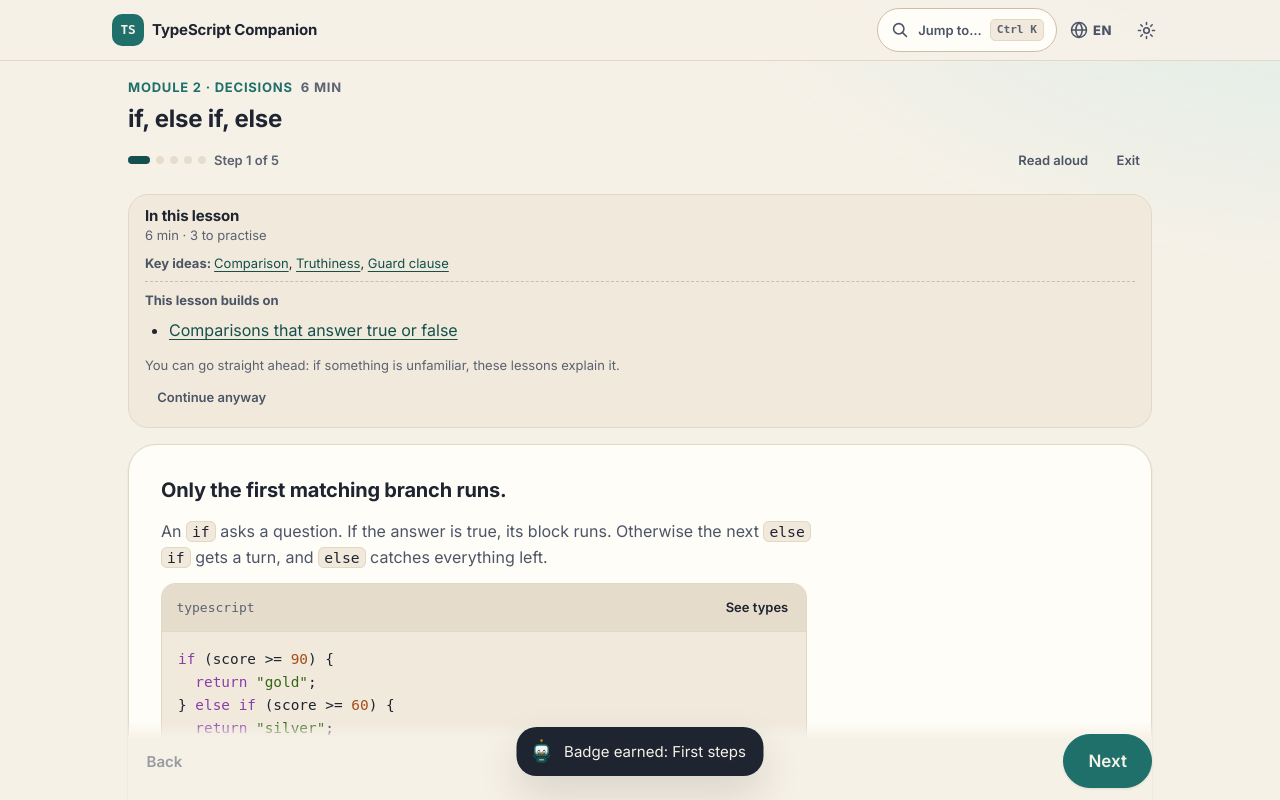
Scenario: opening lessons › with every lesson unlocked, a lesson ahead opens with a note about what it builds on
Expected: the heading "if, else if, else" is shown, [128,104,282,133]
Expected: the text "This lesson builds on" is shown, [145,292,279,308]
Click the button "Continue anyway" at [212, 397], box [145,379,278,415]
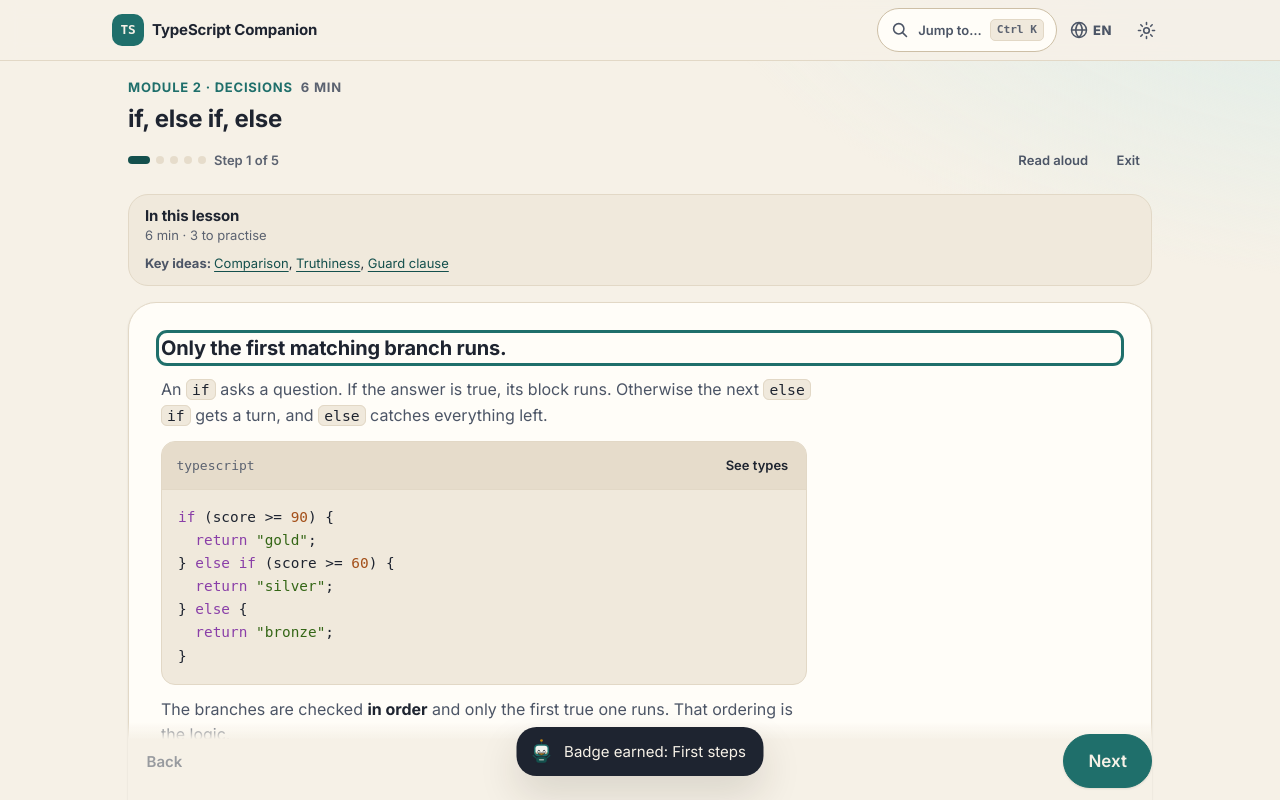
Expected: the text "This lesson builds on" is gone
